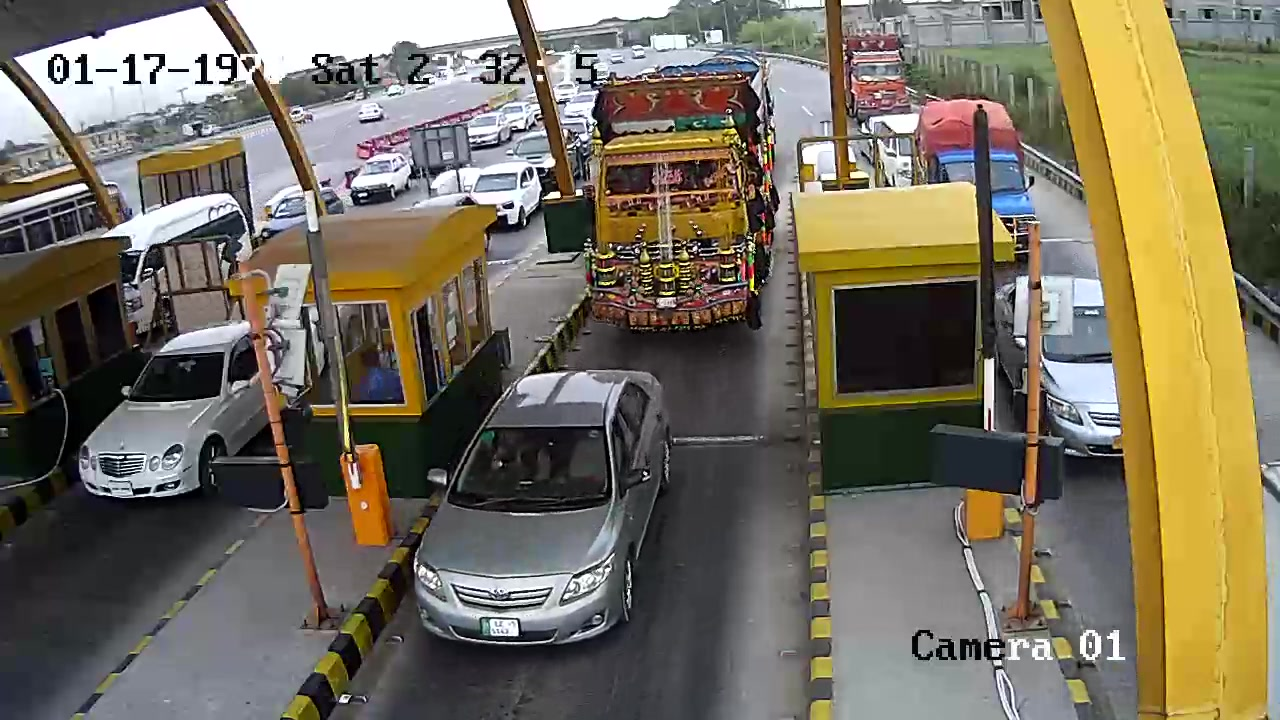F1: (409, 346, 687, 654)
F5: (576, 35, 793, 335)
